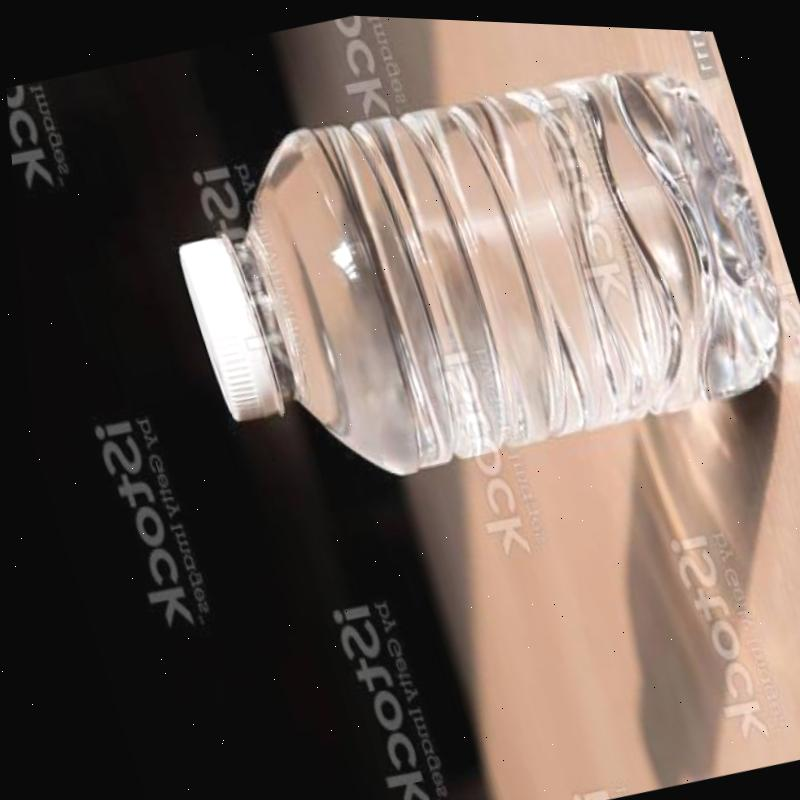botella: (132, 8, 800, 520)
